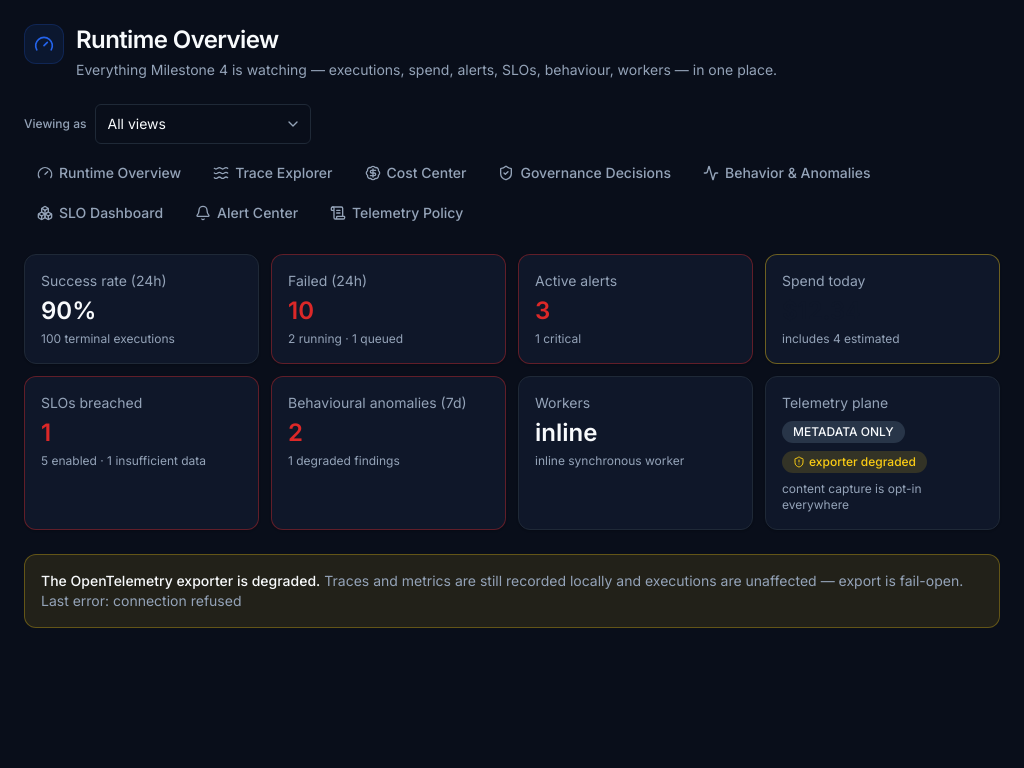
Test: AC-02 — per persona, not one dashboard › the nav hides a view the persona lens excludes
Select "FinOps" in the dropdown named "Persona" at (202, 124), box [94,104,310,144]
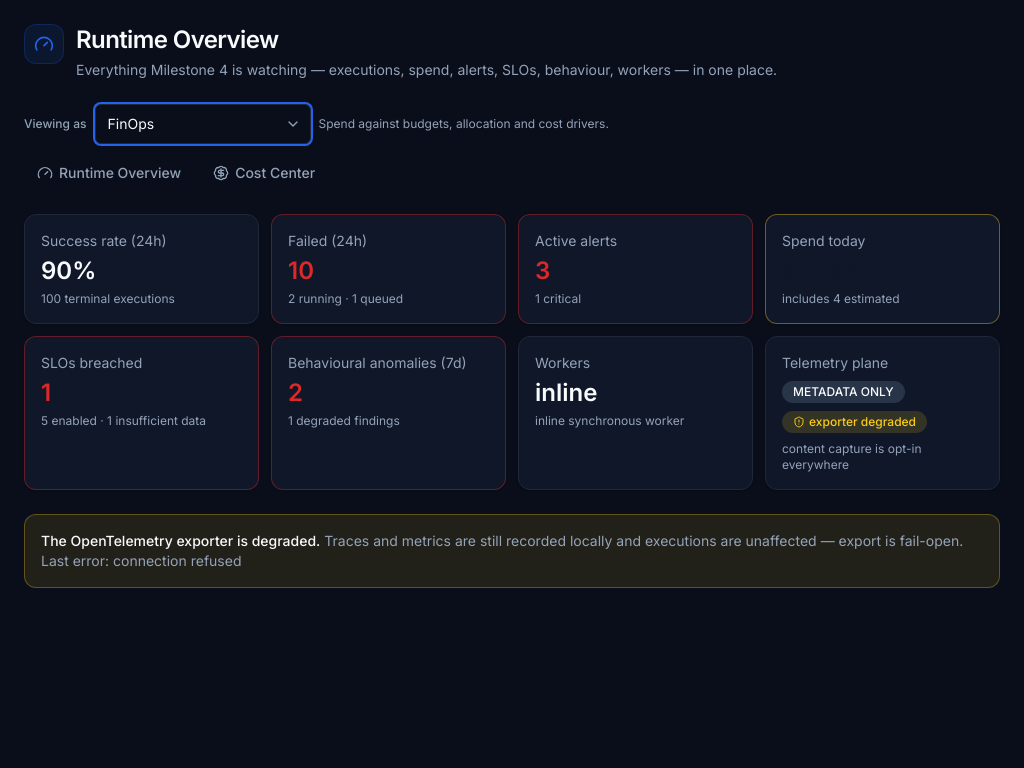
Check: the link "Cost Center" is shown, box [213,164,315,181]
Check: the link "Telemetry Policy" is gone
